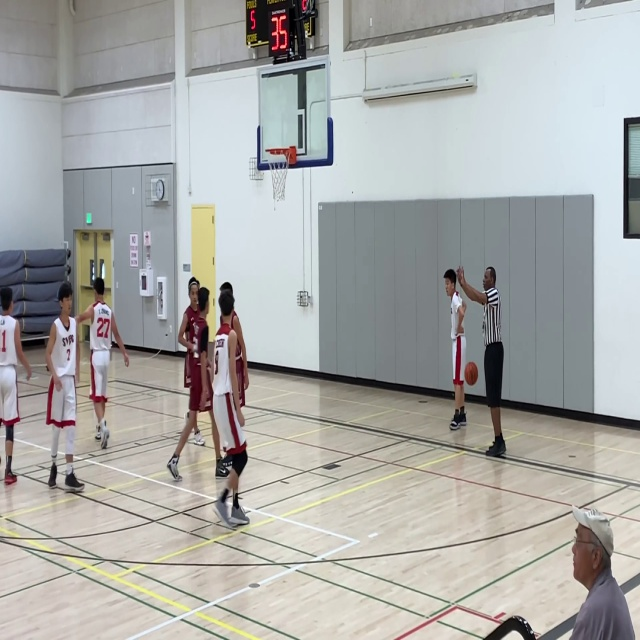Basketball: (464, 362, 478, 386)
